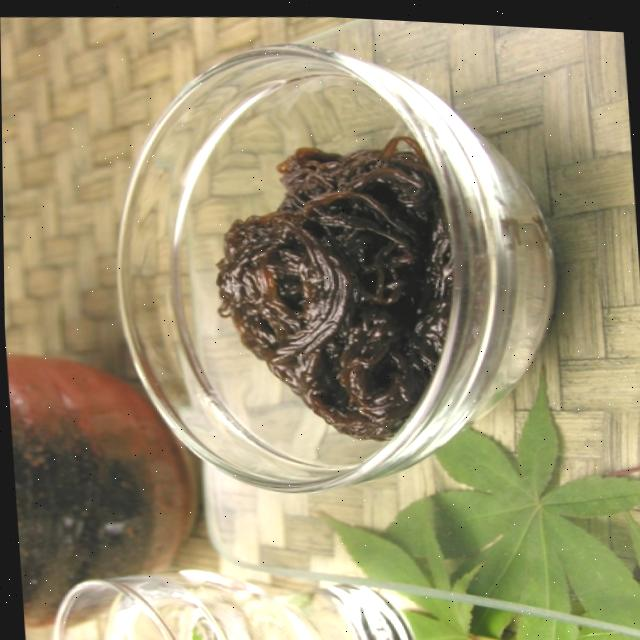蔬菜料理: (61, 26, 565, 541)
